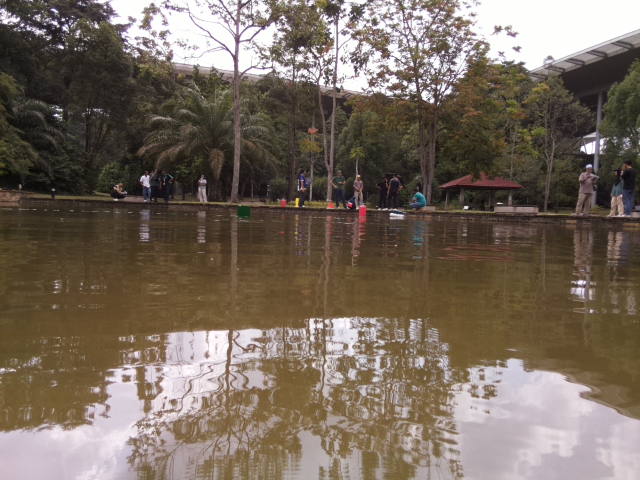obstacle: (236, 205, 251, 218)
